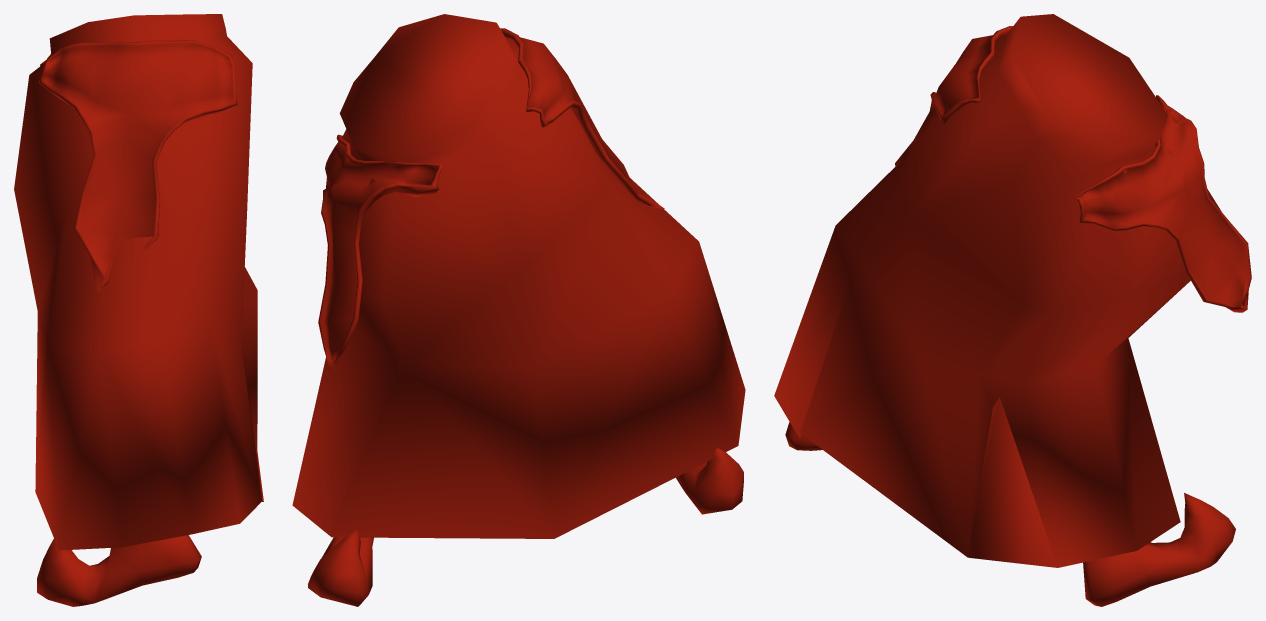
The model's file is bot_000052.obj.
3 views of the same model, side by side, from view 1: azimuth 30°, elevation 25°; view 2: azimuth 150°, elevation 25°; view 3: azimuth 270°, elevation 25° (orthographic). The views are drawn at different scales.
Parts seen in each view (by area): view 1: LowPoly_Warlock.004_Plane.004; view 2: LowPoly_Warlock.004_Plane.004; view 3: LowPoly_Warlock.004_Plane.004.
Boxes of the visible parts, bbox=[...] form: LowPoly_Warlock.004_Plane.004: bbox=[14, 14, 263, 606]; LowPoly_Warlock.004_Plane.004: bbox=[292, 14, 745, 606]; LowPoly_Warlock.004_Plane.004: bbox=[774, 14, 1251, 606].
Size of the model in its own units: 0.6748 by 1.13 by 0.9114.
